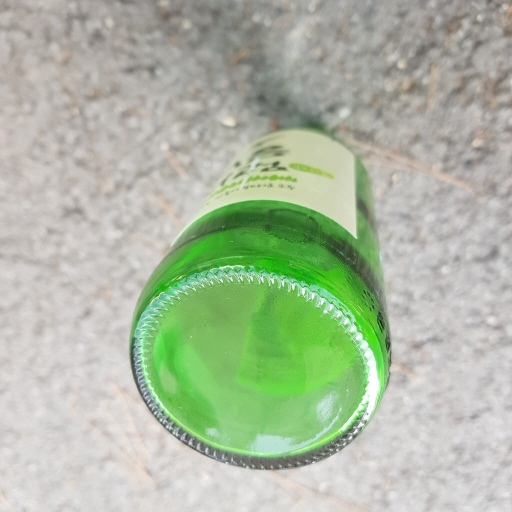Glass_0: (117, 126, 397, 475)
